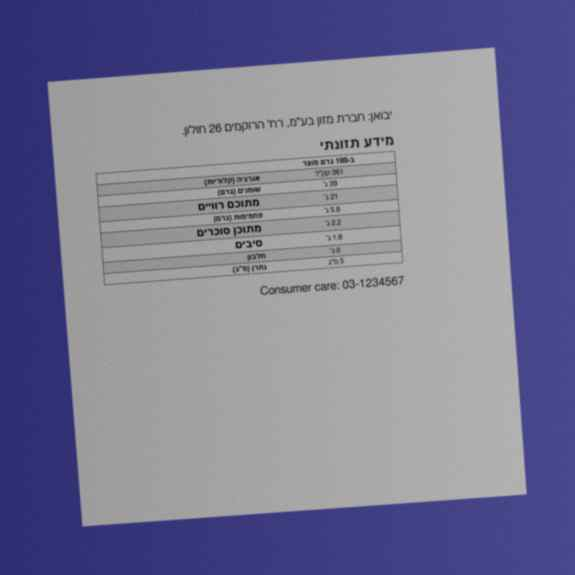carbs: (323, 205, 341, 215)
energy: (313, 167, 345, 179)
fat: (322, 179, 339, 189)
protein: (329, 246, 342, 256)
